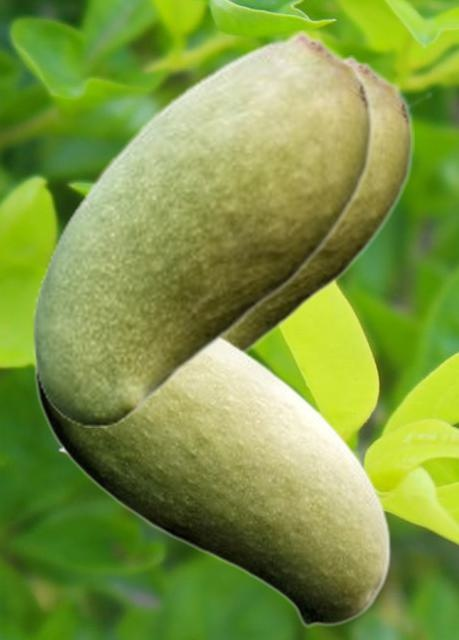green_mango: (31, 30, 373, 426), (34, 337, 390, 627), (227, 55, 413, 352)
